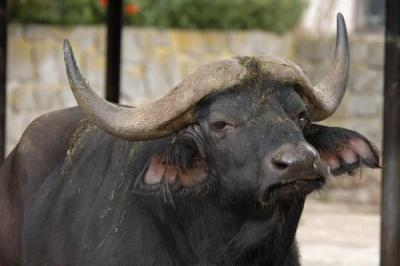buffalo: (0, 13, 380, 265)
